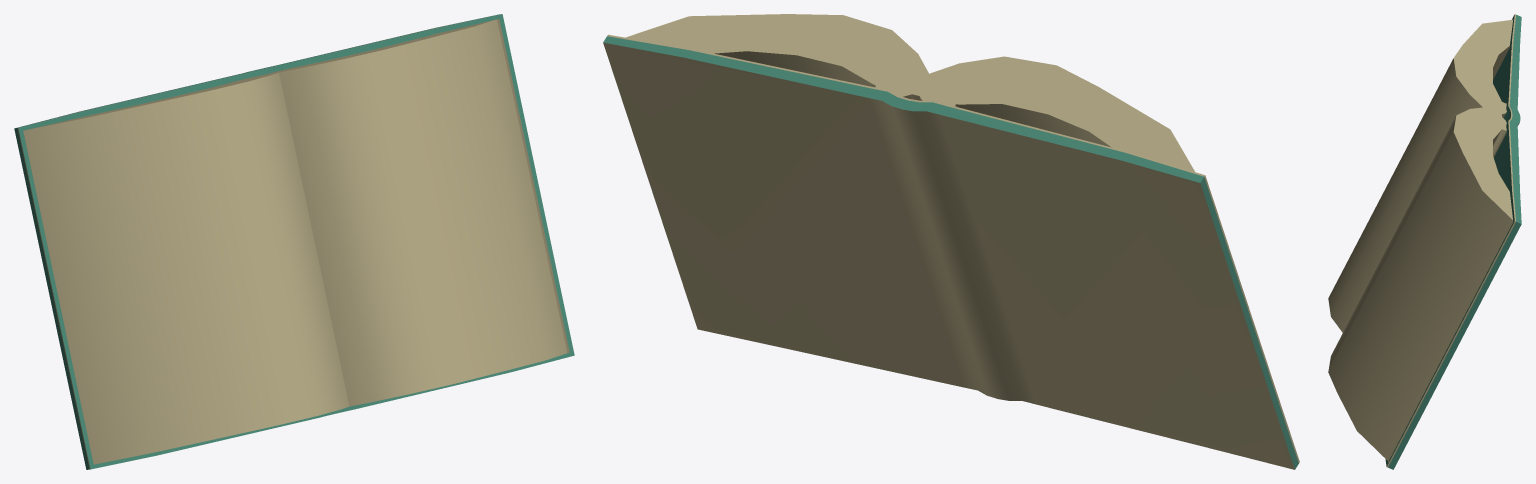
The model's file is Book1.fbx.
3 renders of one model, left to right at view 1: azimuth 30°, elevation 25°; view 2: azimuth 150°, elevation 25°; view 3: azimuth 270°, elevation 25°, orthographic. The views are drawn at different scales.
Visible parts, largest first — view 1: Book 1; view 2: Book 1; view 3: Book 1.
Part boxes in pixels (<box>): Book 1: <box>14,14,574,469</box>; Book 1: <box>603,14,1299,469</box>; Book 1: <box>1328,14,1521,469</box>.
Size of the model in its own units: 99.01 by 62.07 by 39.57.
